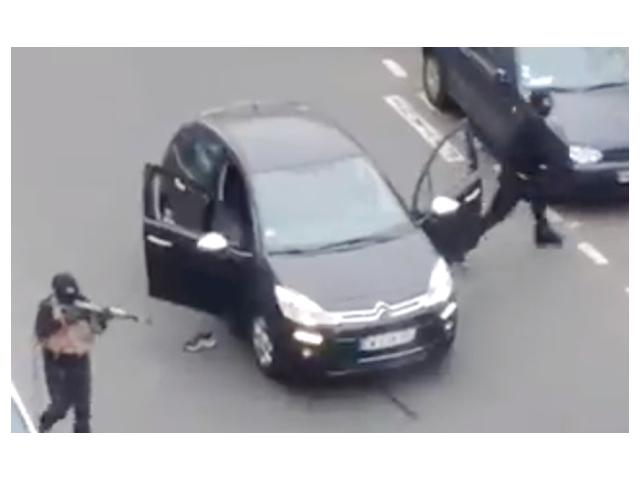rifle: (61, 299, 143, 334)
